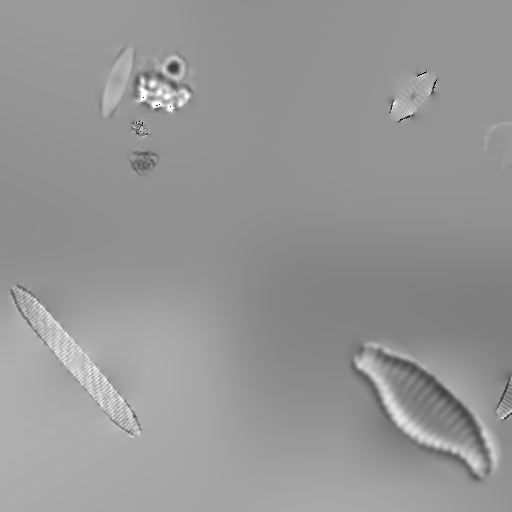ADEU: (89, 38, 145, 126)
ETEN: (489, 363, 512, 429)
GACC: (379, 60, 447, 132)
SBND: (330, 317, 512, 505)
SHTE: (476, 113, 512, 175)
UULN: (0, 273, 155, 449)
